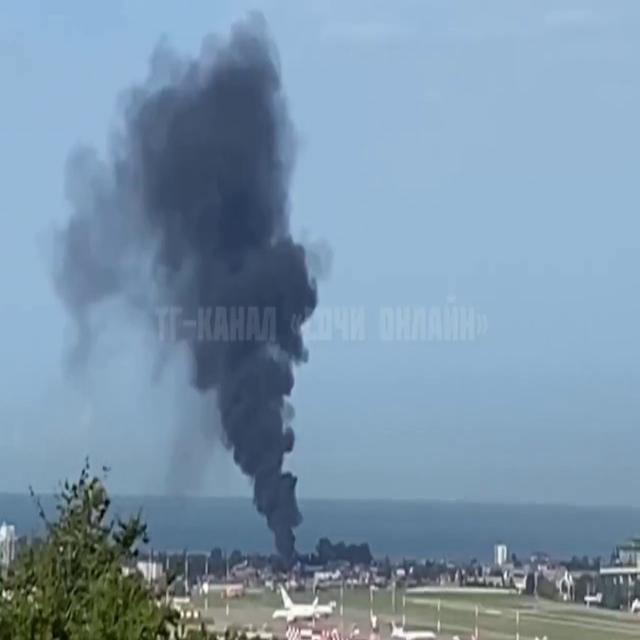Smoke: (92, 12, 318, 561)
